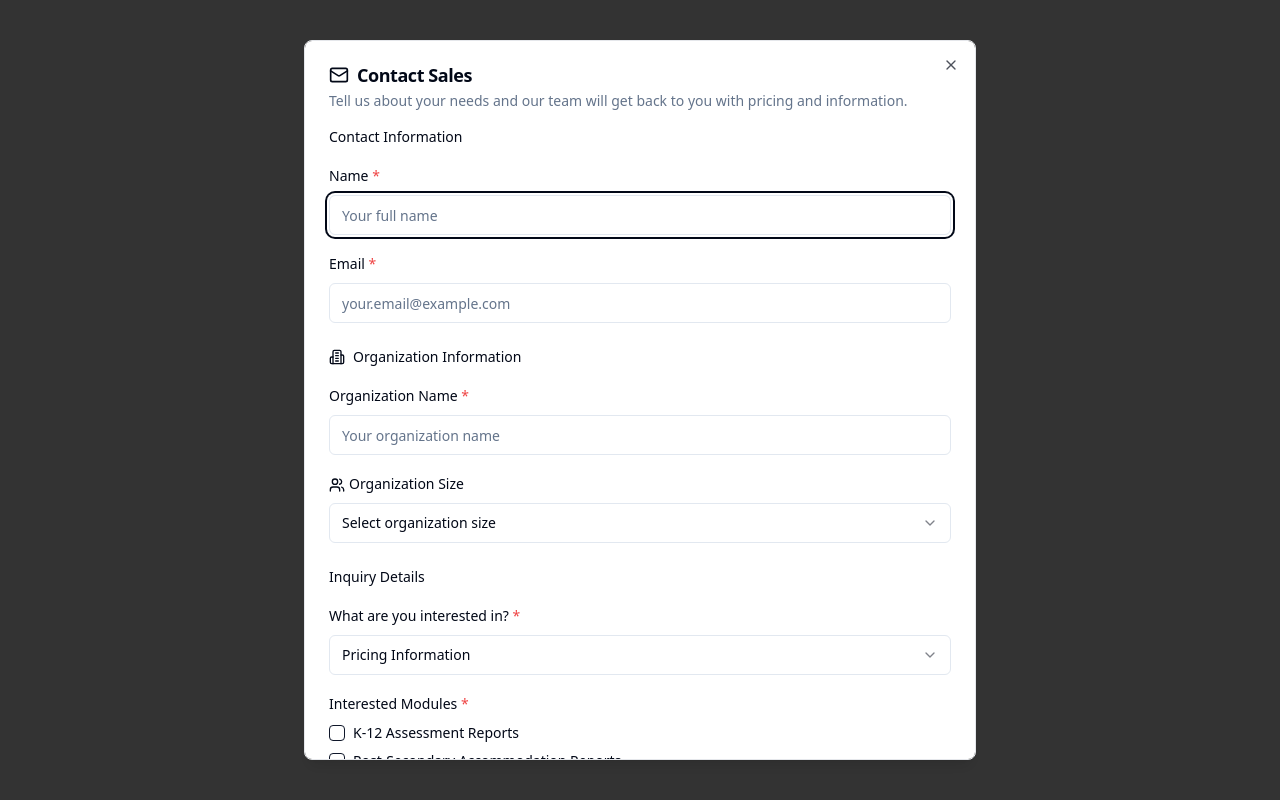
Support and Sales Modals › SalesInquiryModal › displays success message after submission
The image size is (1280, 800).
Fill in required fields
Type "John Doe" into the field labelled "Name *" at (640, 215), box [329,195,951,235]
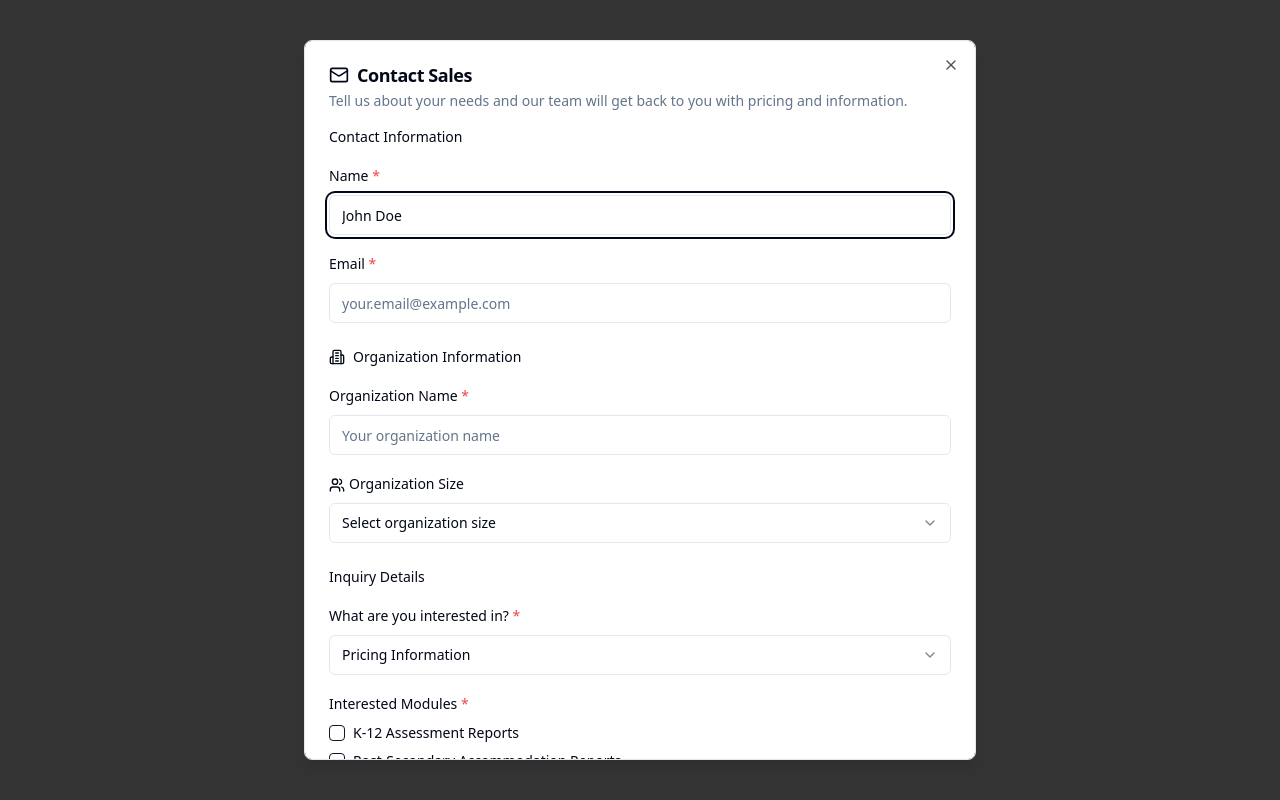
Type "john@example.com" into the field labelled "Email *" at (640, 303), box [329,283,951,323]
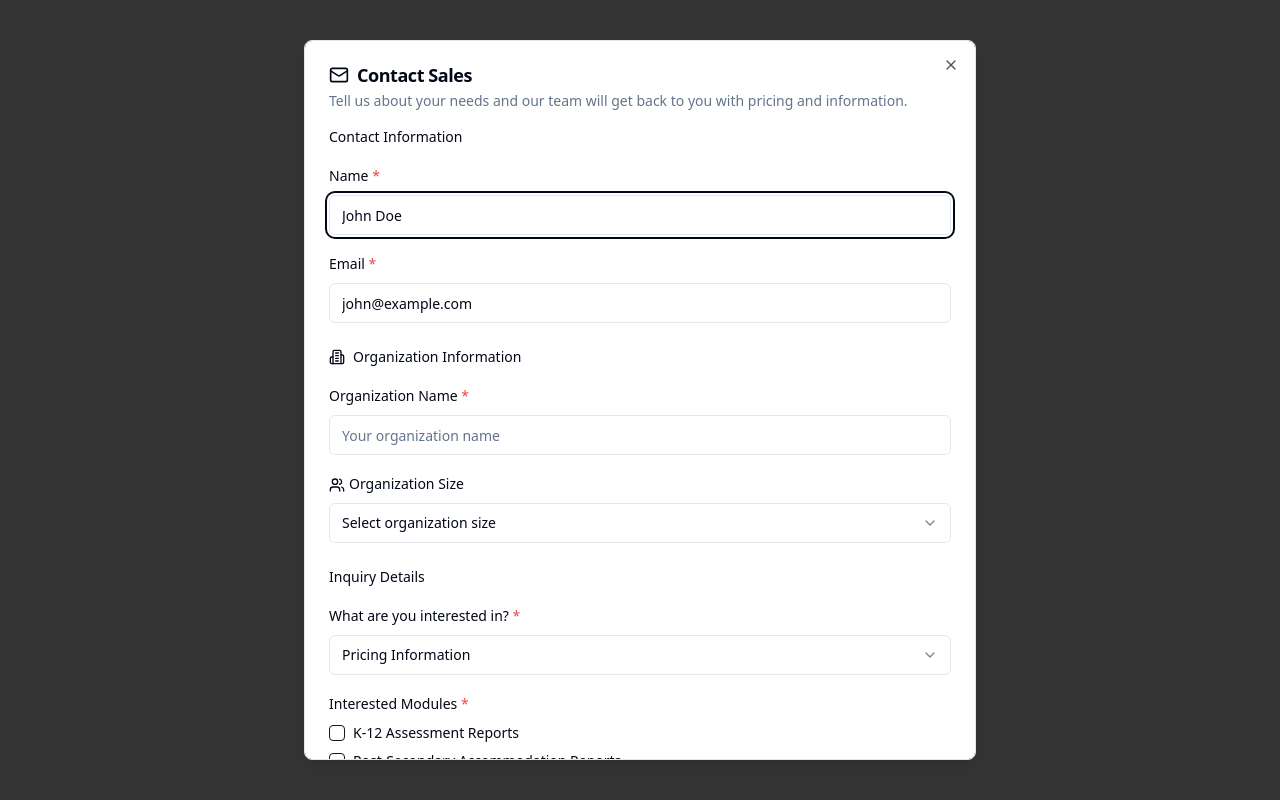
Type "Test Org" into the field labelled "Organization Name *" at (640, 435), box [329,415,951,455]
(page scrolled)
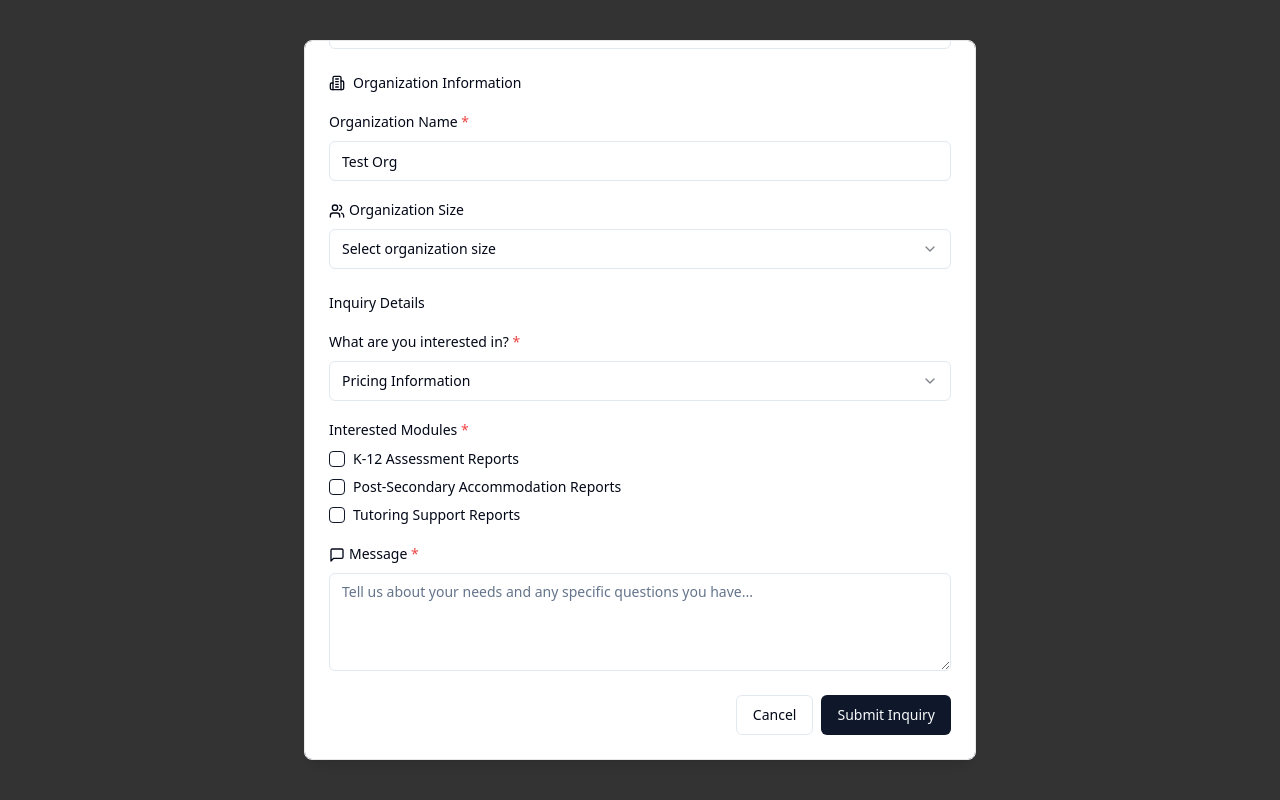
Replace the text in the text box labelled "Message *" with "I am interested" at (640, 622), box [329,573,951,671]
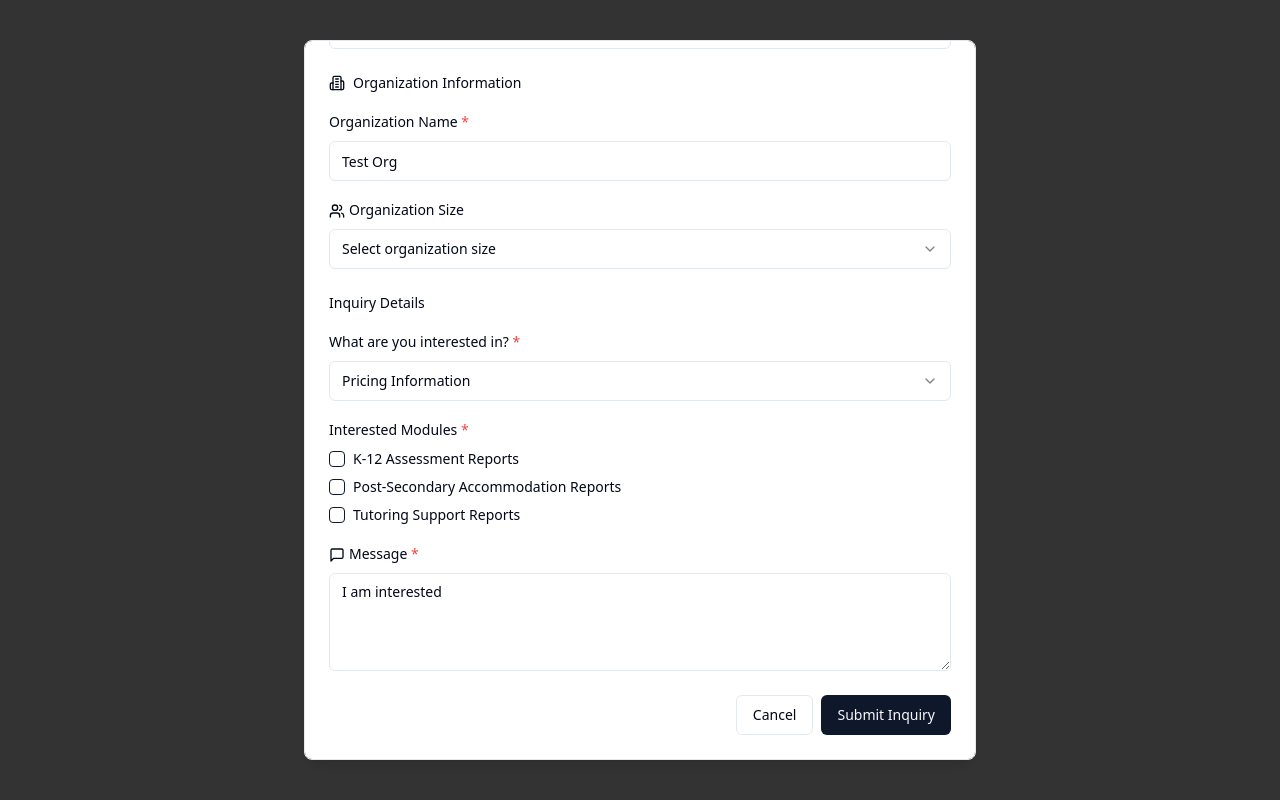
Click the checkbox named "K-12 Assessment Reports" next to "K-12 Assessment Reports" at (337, 459), box [329,451,345,467]
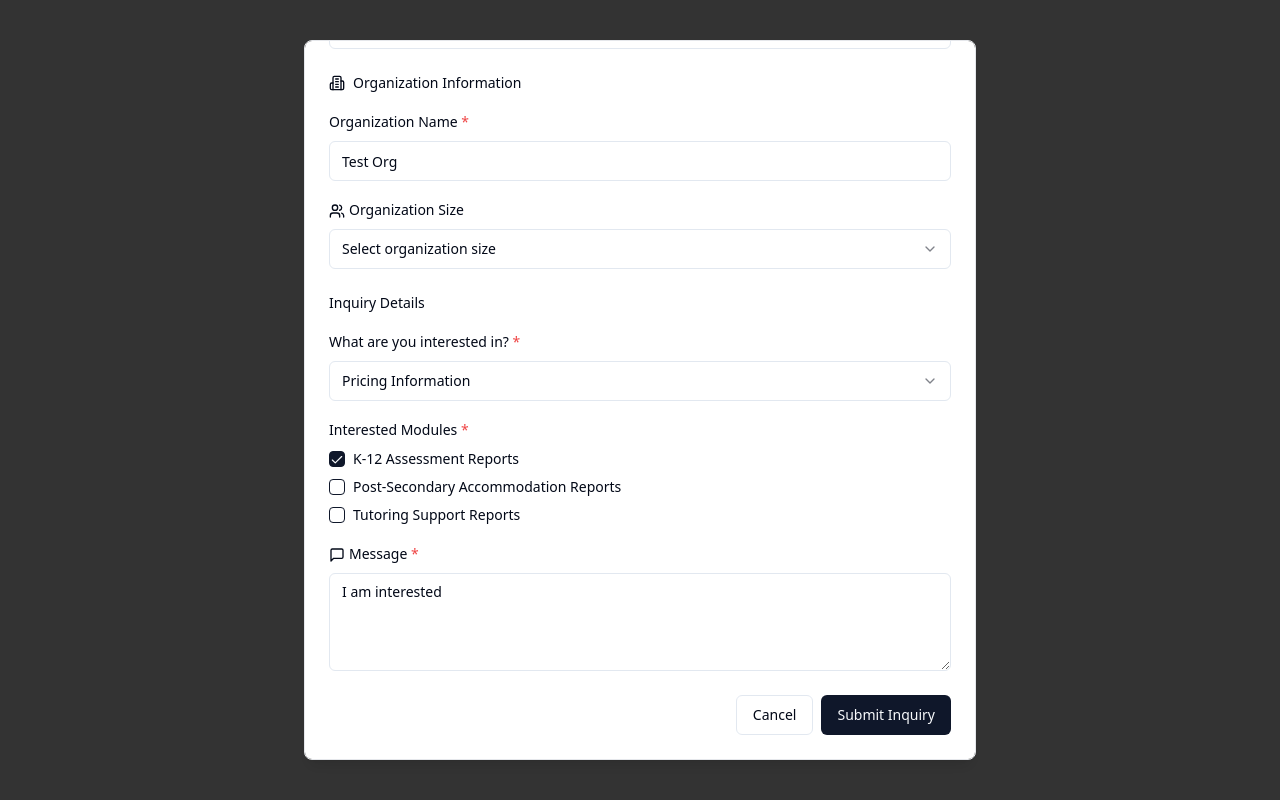
Click the button "Submit Inquiry" at (886, 715), box [822,695,951,735]
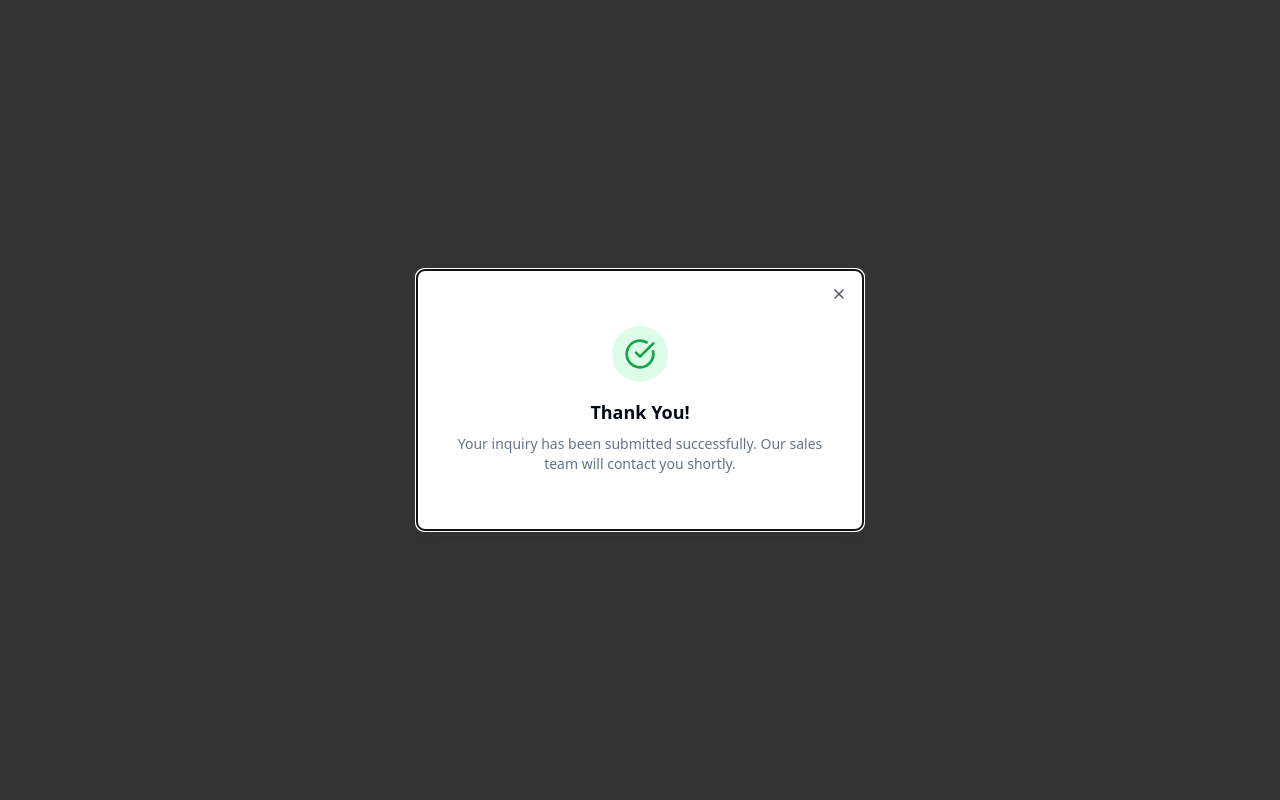
expect the heading "Thank You!" is shown: met, box [590,400,690,424]
